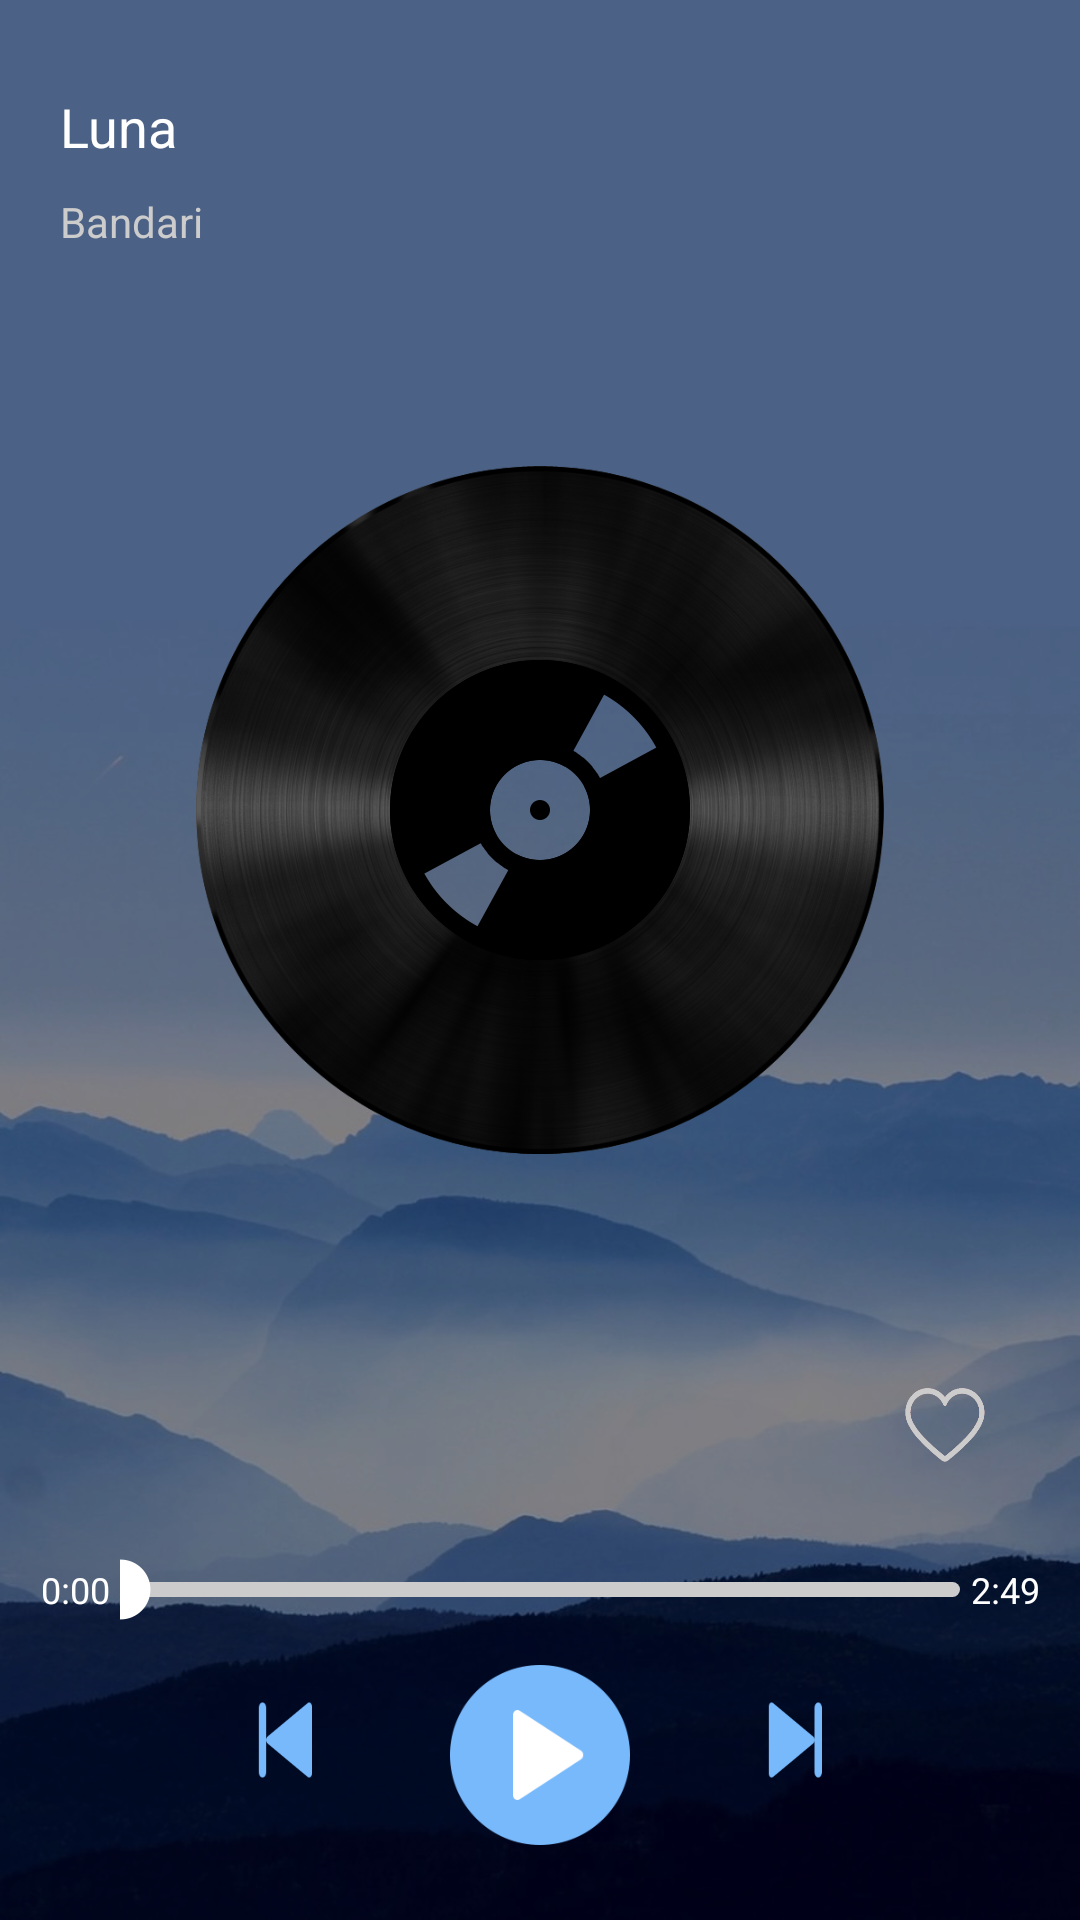

Icon click points for this 1080px×1920px phone screenshot, format (x=x, y=y):
love: (x=945, y=1425)
music: (x=540, y=810)
music last: (x=285, y=1740)
music next: (x=795, y=1740)
music start: (x=540, y=1755)
